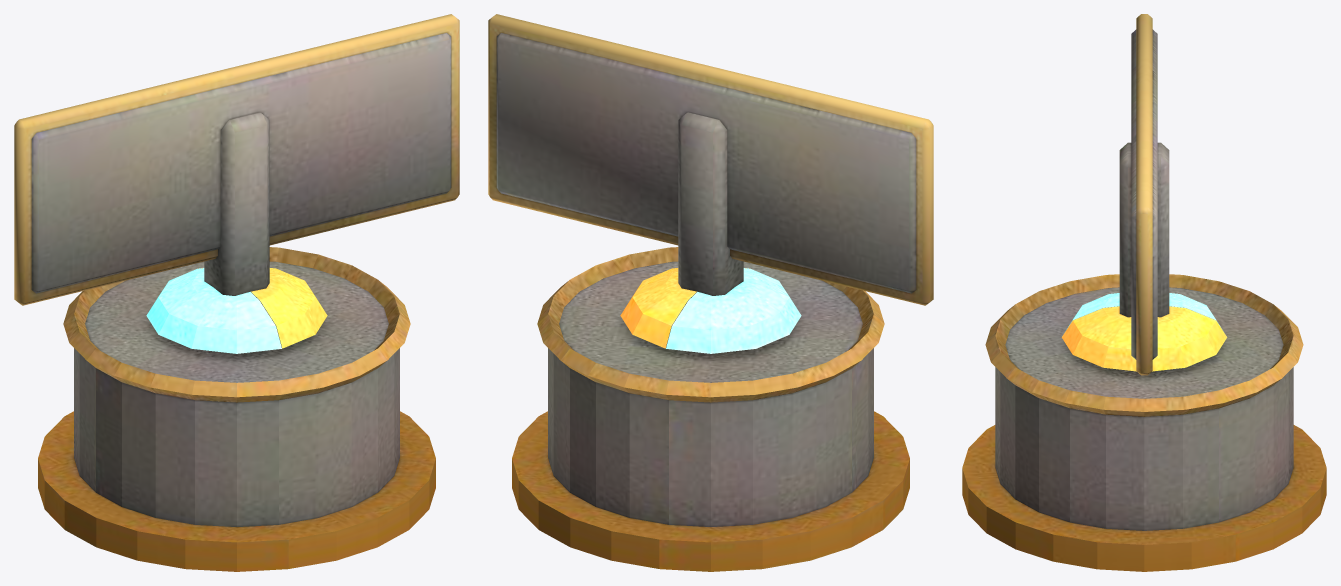
Rendered from start_plinth.glb.
3 renders of one model, left to right at view 1: azimuth 30°, elevation 25°; view 2: azimuth 150°, elevation 25°; view 3: azimuth 270°, elevation 25°, orthographic. The views are drawn at different scales.
Visible parts, largest first — view 1: start_plinth; view 2: start_plinth; view 3: start_plinth.
Boxes of the visible parts, x1,y1,x2,y2 form: start_plinth: (14,14,459,571); start_plinth: (488,14,933,571); start_plinth: (962,14,1326,571).
Size of the model in its own units: 2.82 by 2.56 by 2.2.
1 material, 1 textured.
